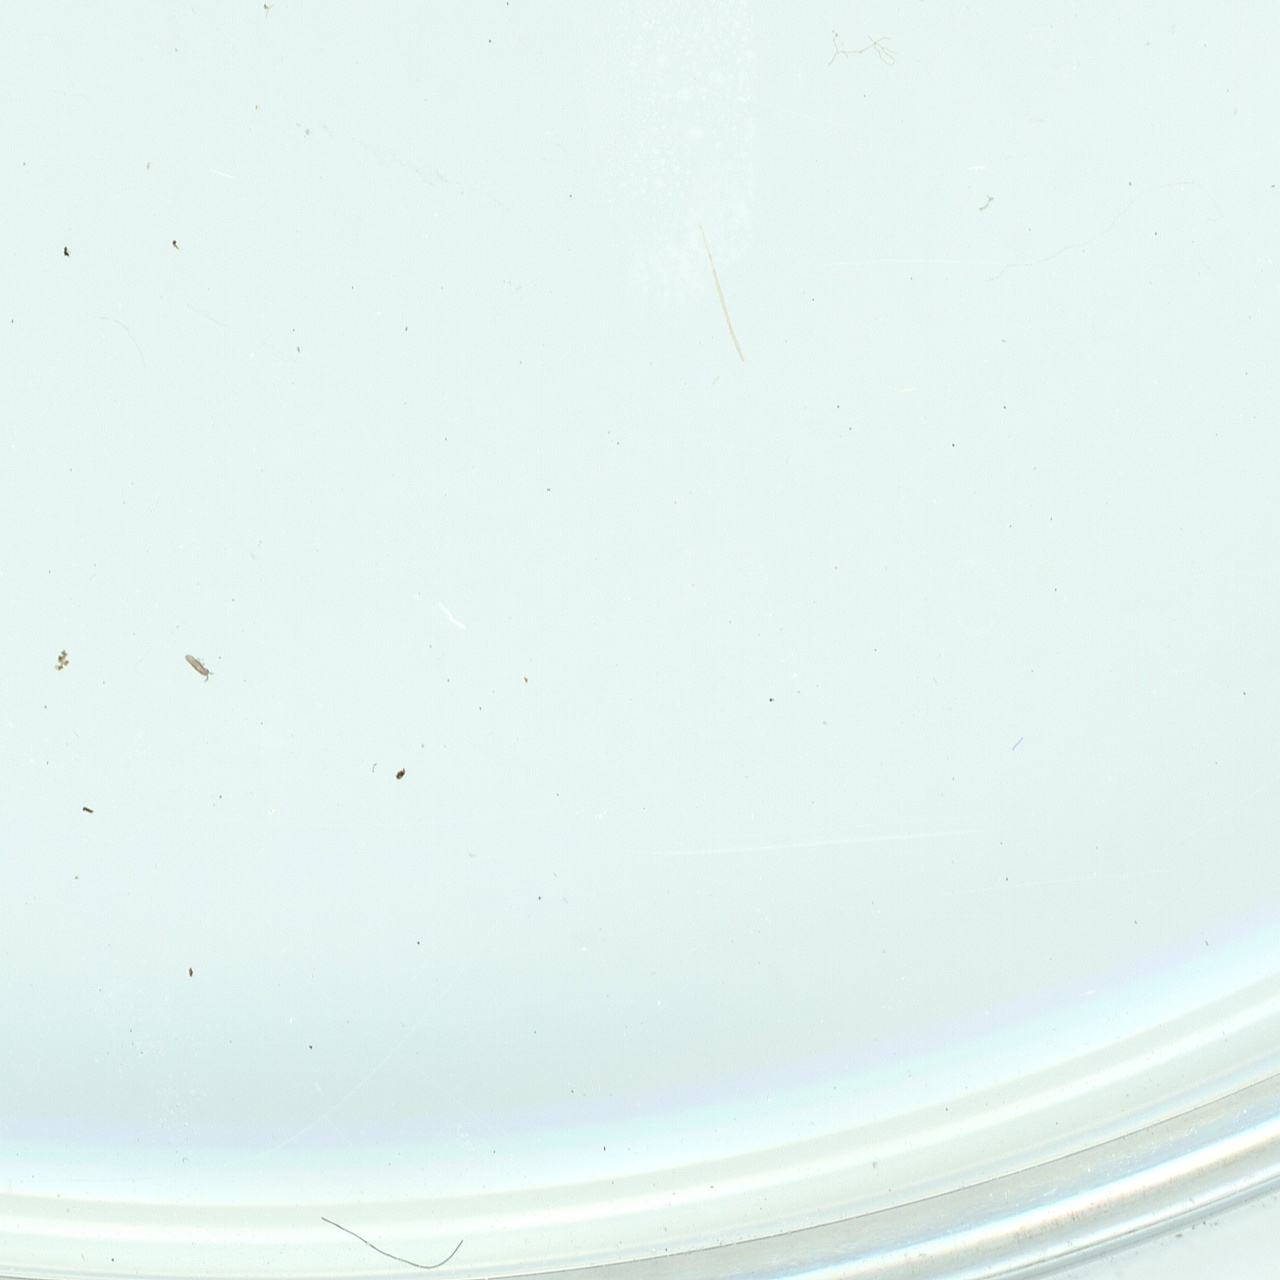arthropod: (179, 648, 216, 684)
